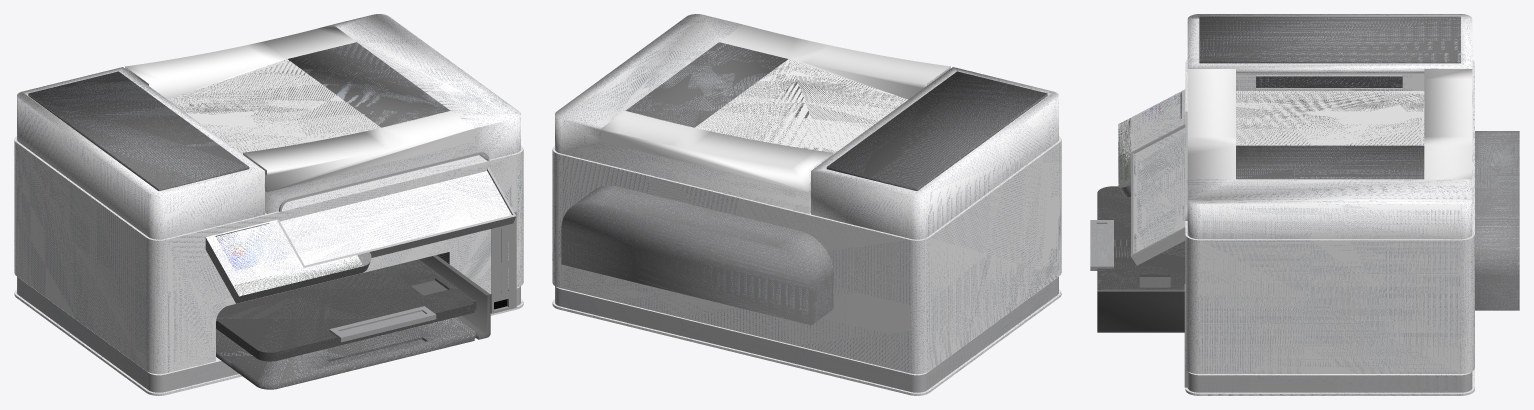
Rendered from Impressora.dae.
The picture shows the model from 3 angles, left to right: view 1: azimuth 30°, elevation 25°; view 2: azimuth 150°, elevation 25°; view 3: azimuth 270°, elevation 25°; orthographic projection.
Parts seen in each view (by area): view 1: SketchUp (×9), Componente_2 (×6), Componente_3 (×5), Componente_1, image_2, image_1, image_0; view 2: SketchUp (×9), Componente_5; view 3: SketchUp (×12), Componente_2 (×5), Componente_3 (×4), Componente_5, image_2.
Boxes of the visible parts, x1,y1,x2,y2 form: SketchUp (×9): (14,14,523,395); Componente_2 (×6): (216,255,490,389); Componente_3 (×5): (205,168,516,303); Componente_1: (490,211,516,313); image_2: (234,258,363,295); image_1: (215,223,284,270); image_0: (206,231,302,284); SketchUp (×9): (552,14,1061,395); Componente_5: (561,185,833,325); SketchUp (×12): (1185,14,1474,395); Componente_2 (×5): (1090,186,1185,332); Componente_3 (×4): (1118,89,1185,265); Componente_5: (1475,131,1519,310); image_2: (1118,118,1130,184).
Bounding box in the file's own units: 17.72 × 17.52 × 9.07.
